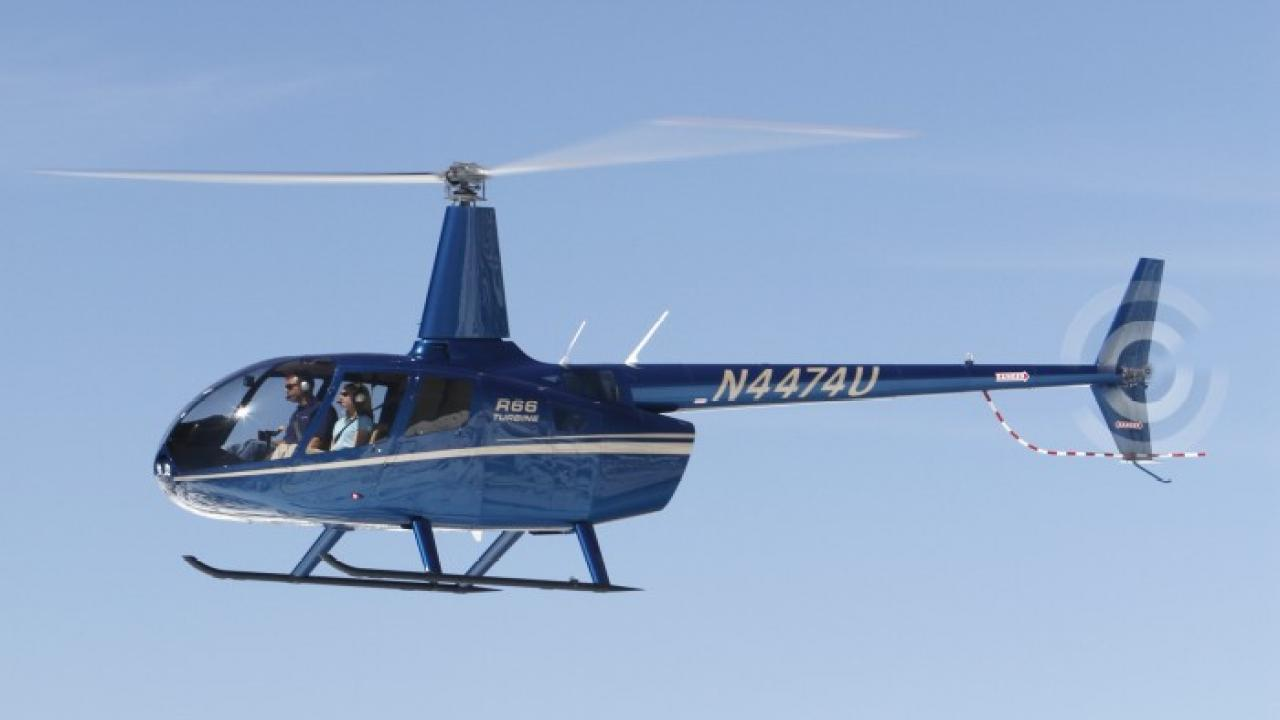Helicopter: (0, 103, 1219, 605)
